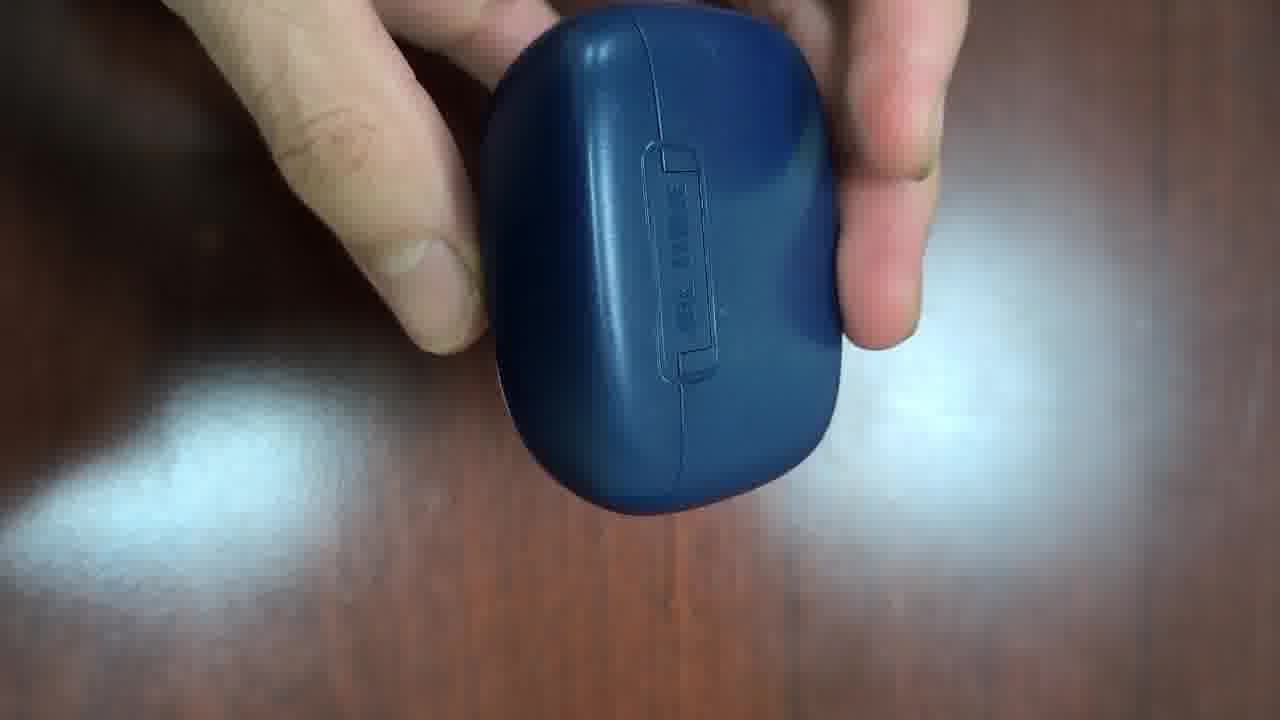Case: (477, 4, 840, 513)
